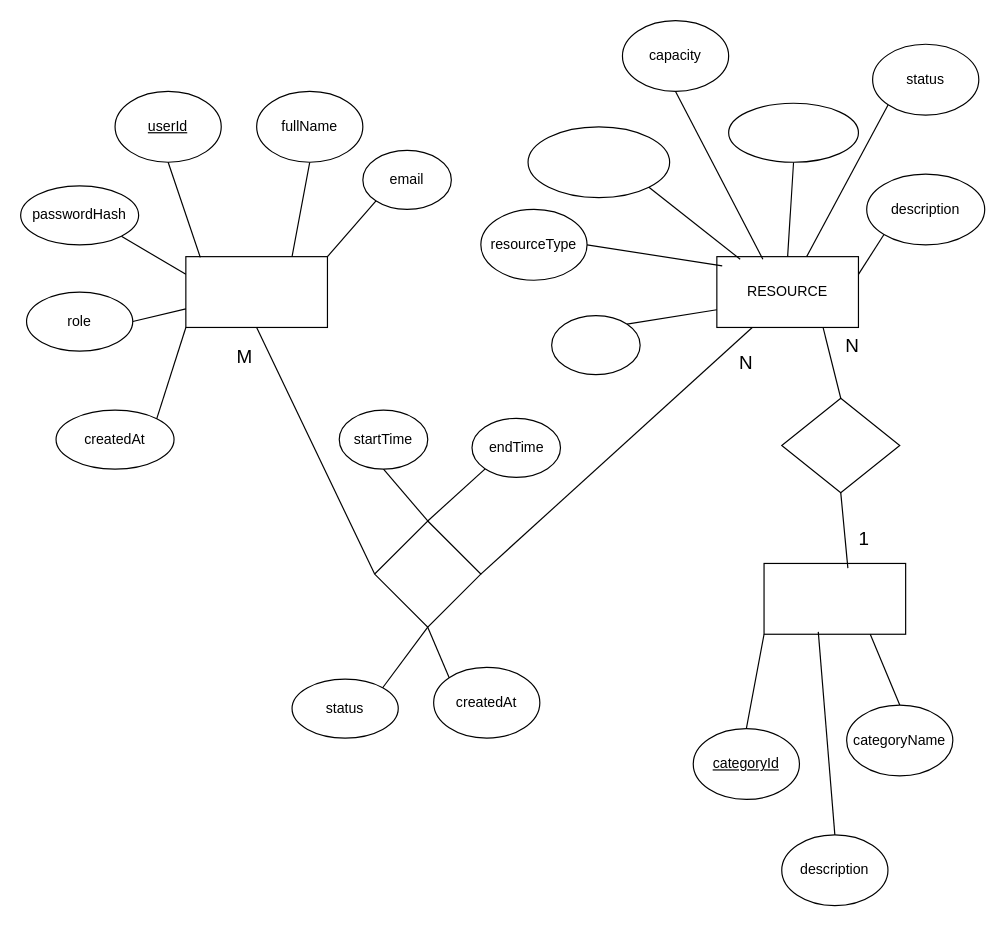
Some shapes in this 1005 by 926 pixel diagram are drawn without their labels. The box of each missing label's shape, as (x1, y1, x2, y2) in pixels:
BELONGS_TO: (781, 397, 900, 493)
CATEGORY: (763, 562, 906, 634)
location: (550, 314, 640, 375)
name: (727, 102, 858, 162)
RESERVES: (373, 520, 481, 627)
resourceID: (527, 126, 670, 198)
USER: (185, 255, 327, 327)
